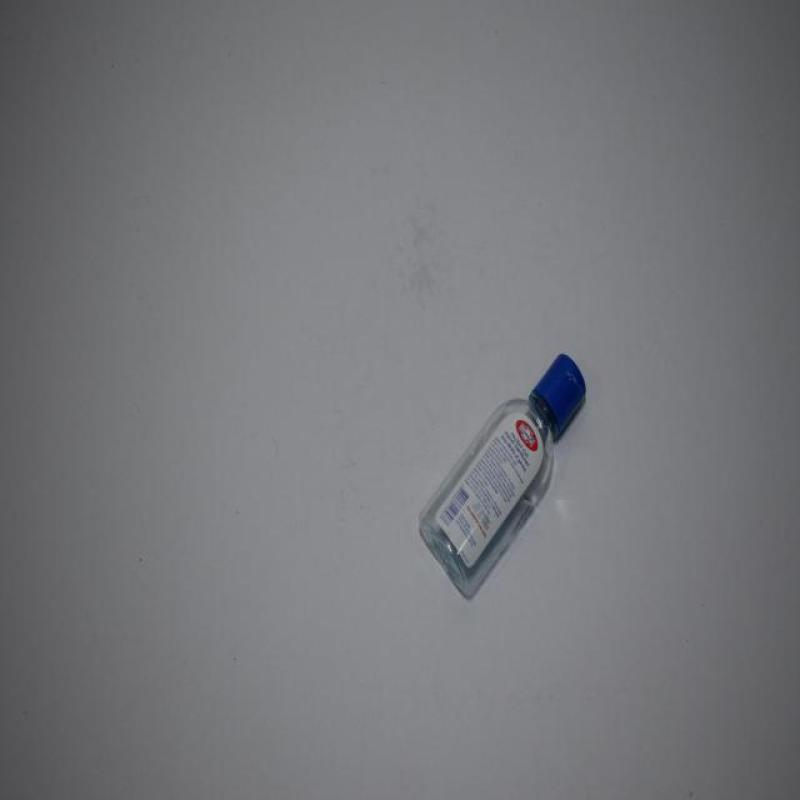botella: (416, 353, 586, 595)
